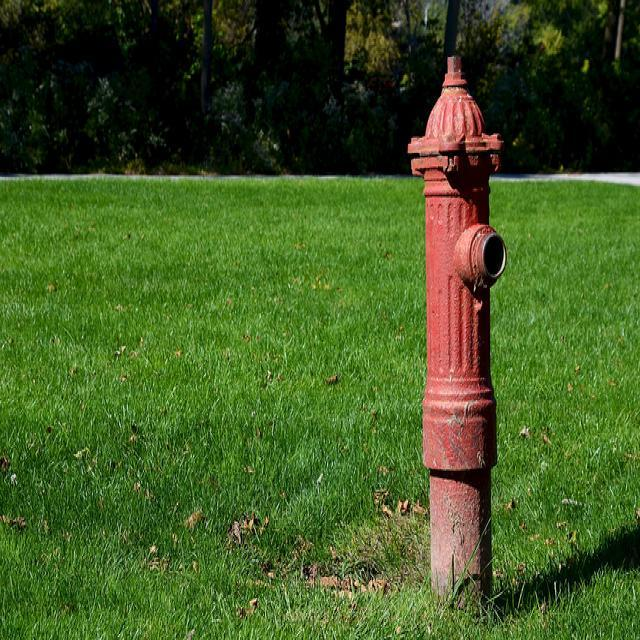fire_hydrant: (407, 53, 508, 618)
